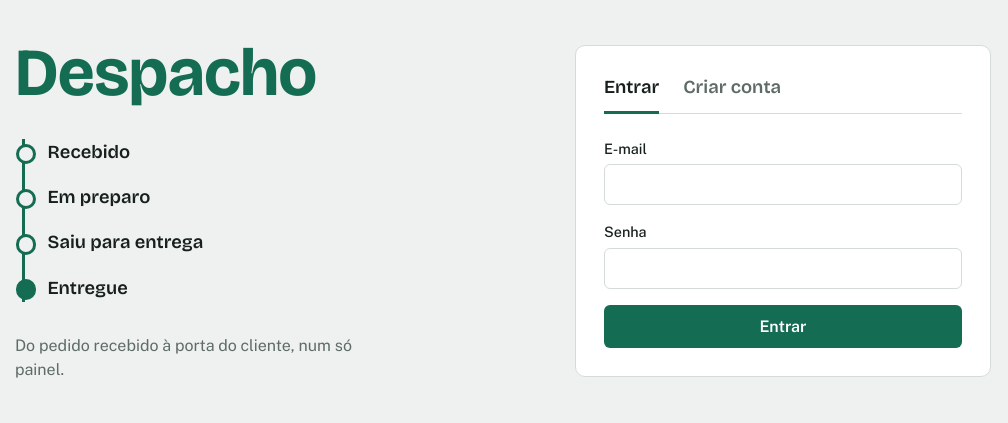
Test case: AuthScreen › mostra o erro da API quando o login falha
Type "mica@exemplo.com" into the field labelled "E-mail".
click(783, 185); type("mica@exemplo.com")  # box x1=604 y1=164 x2=962 y2=205
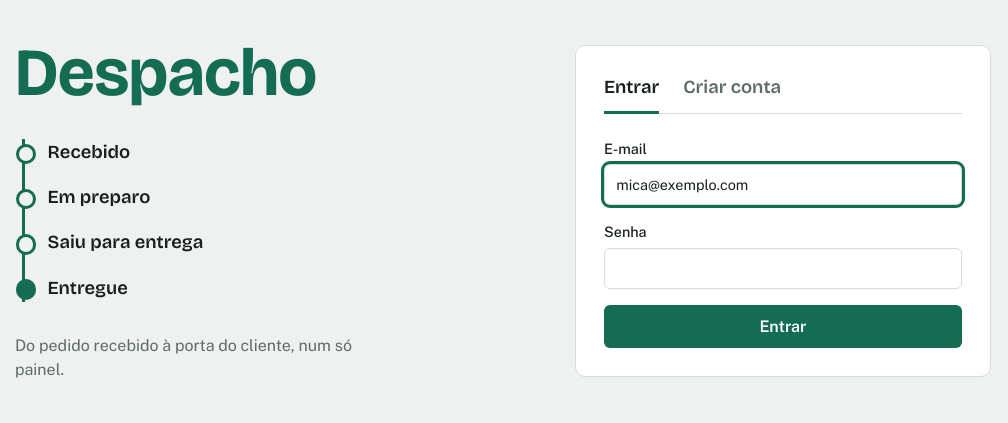
Type "senha-errada" into the password field labelled "Senha".
click(783, 268); type("senha-errada")  # box x1=604 y1=248 x2=962 y2=289
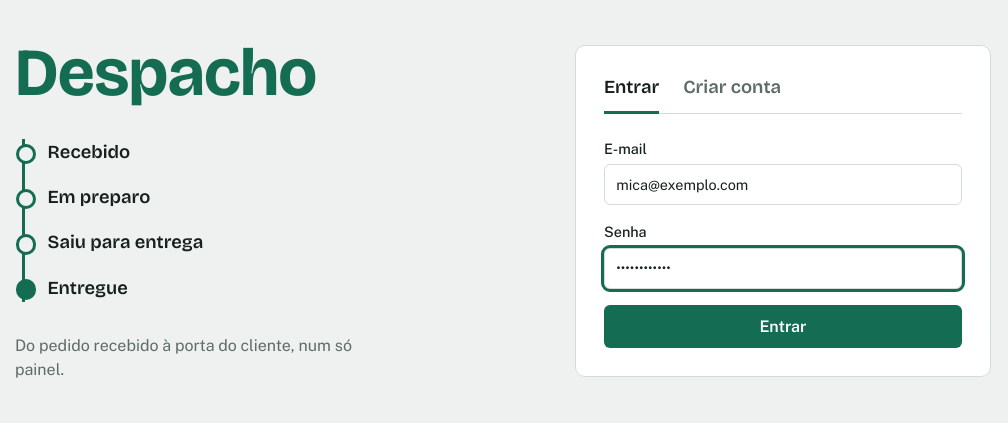
Click the button "Entrar".
click(783, 327)  # box x1=604 y1=305 x2=962 y2=348
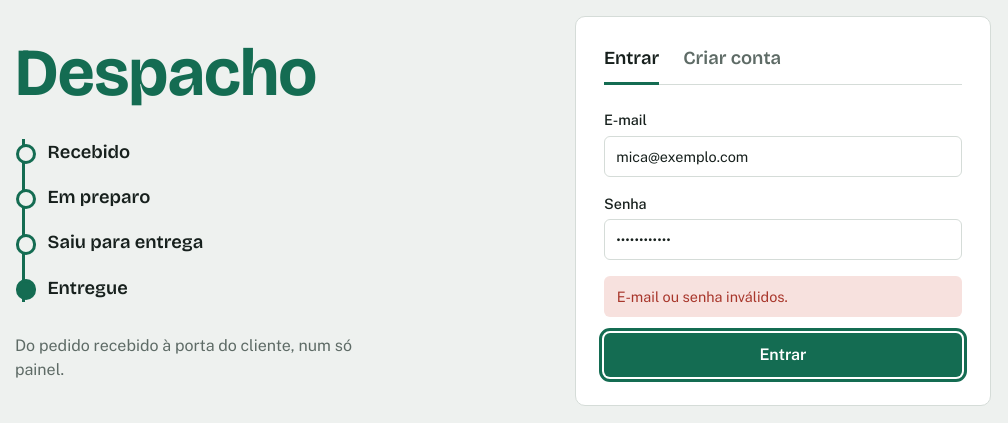
expect the message reads "E-mail ou senha inválidos.": met, box x1=617 y1=288 x2=788 y2=305
